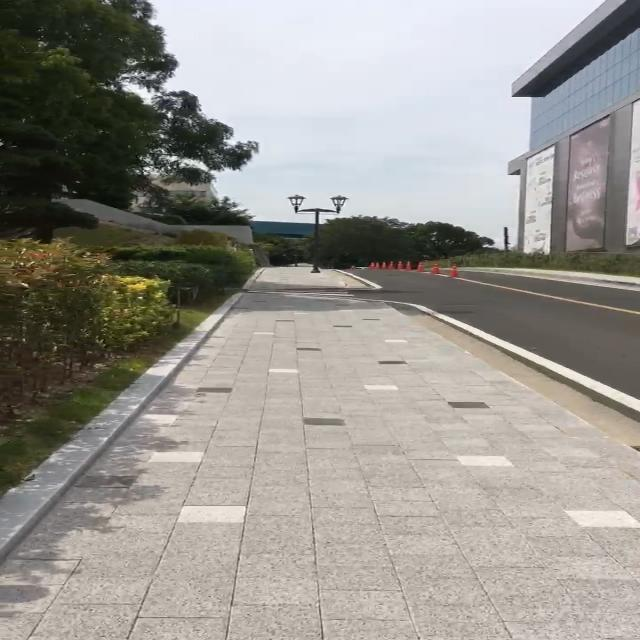sidewalk: (0, 290, 640, 640), (455, 267, 640, 292), (237, 267, 348, 289)
